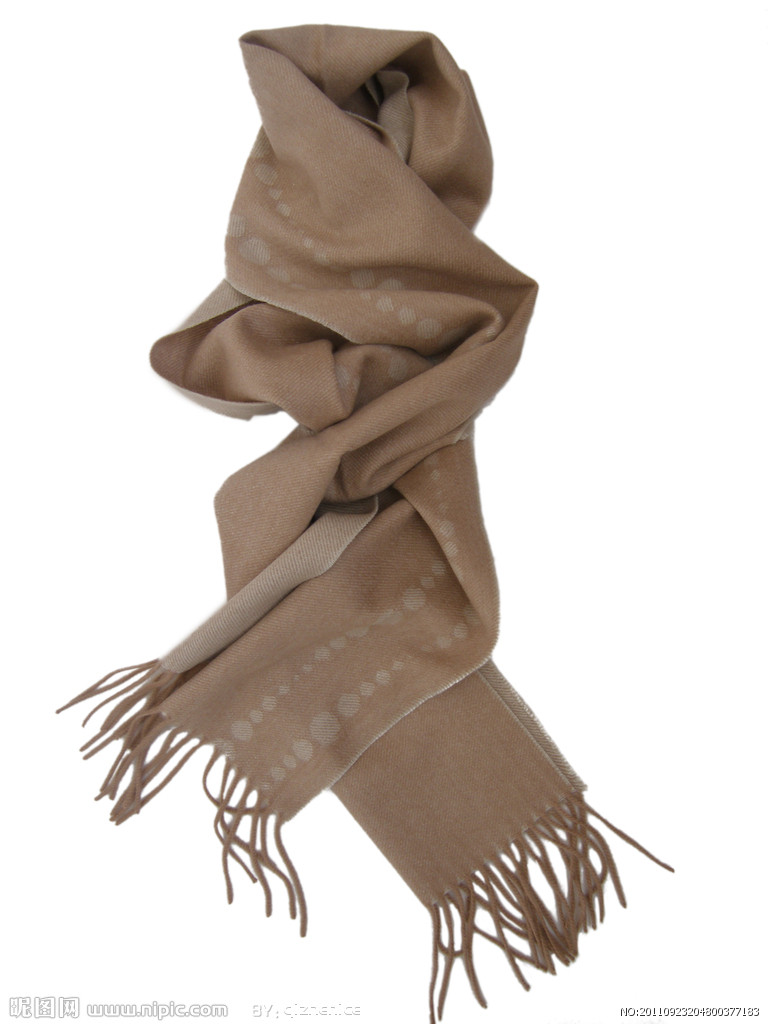flexible: (79, 25, 676, 1005)
